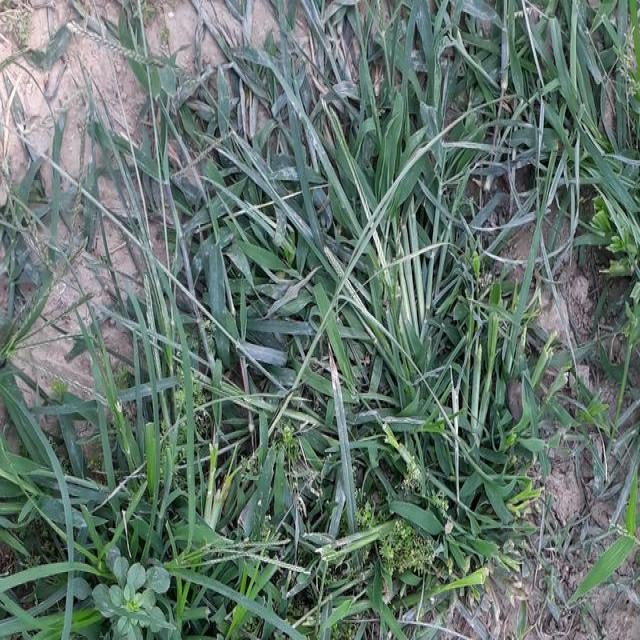weed: (109, 66, 531, 640), (2, 356, 93, 640), (552, 82, 638, 230), (3, 128, 63, 335)
